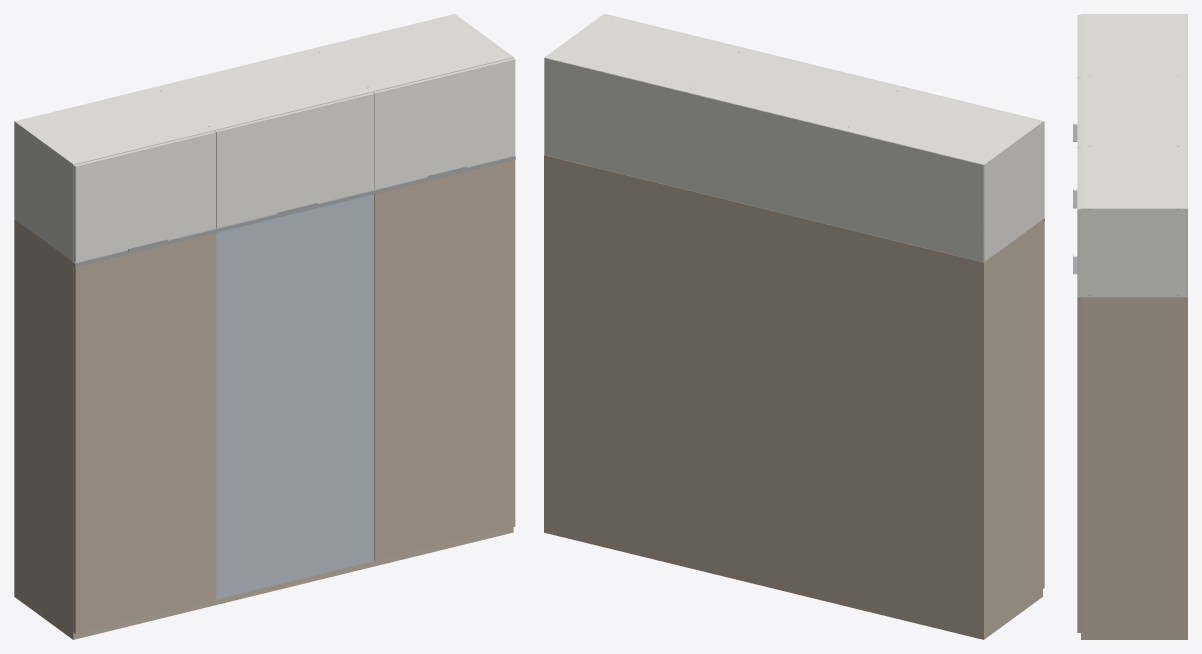
The model's file is Ratet_v10_CadQuery_teljes.glb.
The picture shows the model from 3 angles, left to right: view 1: azimuth 30°, elevation 25°; view 2: azimuth 150°, elevation 25°; view 3: azimuth 270°, elevation 25°; orthographic projection. The views are drawn at different scales.
Visible parts, largest first — view 1: mag (×5), ELIA_tÃ¼krÃ¶s_ajtÃ³, ELIA_bal_ajtÃ³, ELIA_jobb_ajtÃ³, ELIA_korpusz, ELIA_felsÅ_sÃn; view 2: ELIA_korpusz, mag (×3), ELIA_bal_ajtÃ³; view 3: ELIA_korpusz, mag (×4), ELIA_jobb_ajtÃ³, abs3 (×3), abs1, GTV_HEXA_lfoganty_alu_elox_192_225_mm_UA_HEXA_192_05__3db.
Boxes of the visible parts, bbox=[...] form: mag (×5): bbox=[14, 15, 514, 261]; ELIA_tÃ¼krÃ¶s_ajtÃ³: bbox=[216, 194, 374, 599]; ELIA_bal_ajtÃ³: bbox=[73, 233, 216, 633]; ELIA_jobb_ajtÃ³: bbox=[374, 160, 515, 560]; ELIA_korpusz: bbox=[14, 219, 513, 639]; ELIA_felsÅ_sÃn: bbox=[73, 155, 515, 266]; ELIA_korpusz: bbox=[544, 155, 1042, 639]; mag (×3): bbox=[544, 15, 1042, 262]; ELIA_bal_ajtÃ³: bbox=[1043, 222, 1044, 588]; ELIA_korpusz: bbox=[1081, 297, 1187, 639]; mag (×4): bbox=[1080, 14, 1187, 297]; ELIA_jobb_ajtÃ³: bbox=[1077, 300, 1080, 632]; abs3 (×3): bbox=[1077, 15, 1080, 209]; abs1: bbox=[1077, 209, 1080, 296]; GTV_HEXA_lfoganty_alu_elox_192_225_mm_UA_HEXA_192_05__3db: bbox=[1073, 122, 1077, 274].
Bounding box in the file's own units: 2500 × 2580 × 622.
